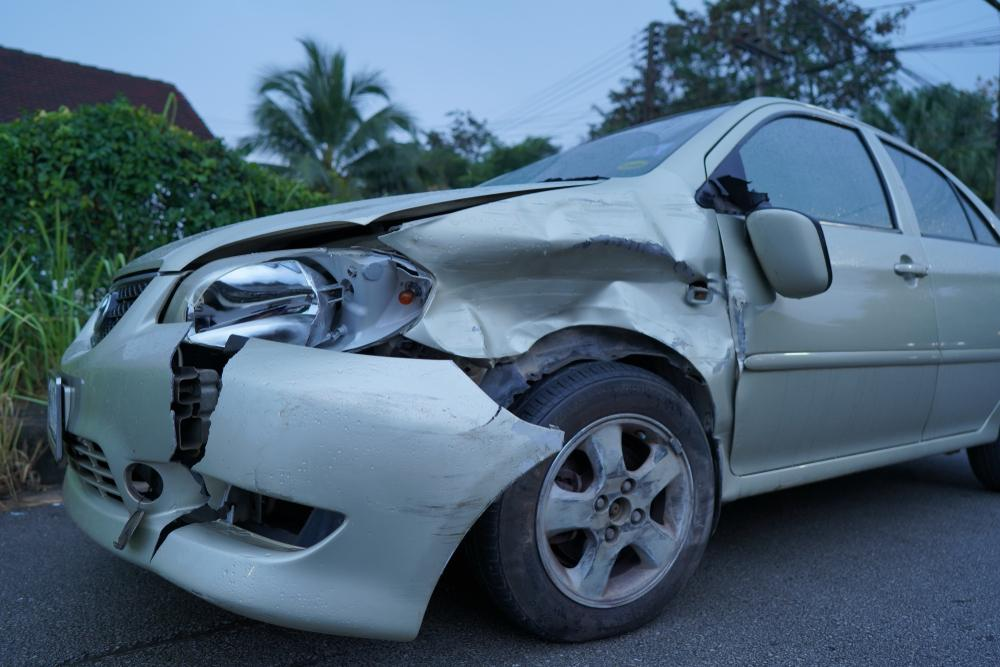crack: (148, 330, 251, 566), (484, 403, 503, 427)
dent: (421, 171, 735, 373)
lamp broken: (184, 242, 435, 345)
scratch: (288, 379, 557, 546)
